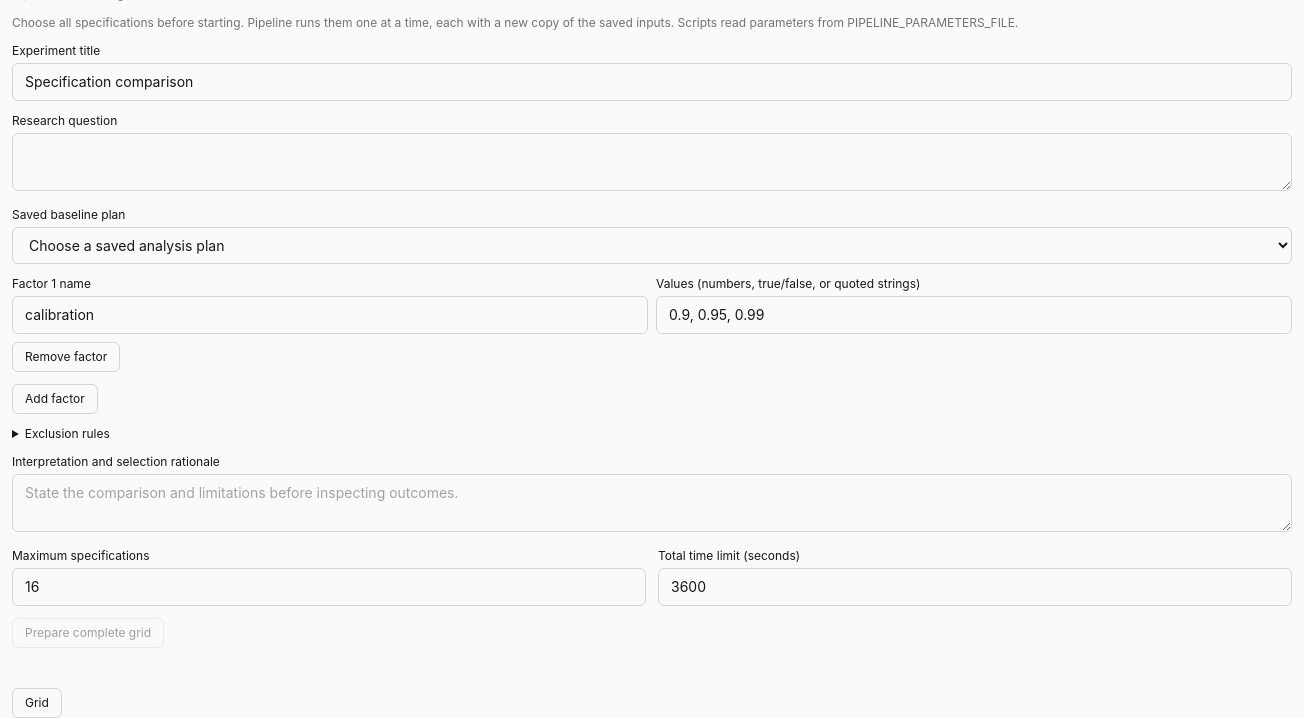
Test: offers only what a attention grid can do
(page scrolled)
Click the button "Grid" at point(37, 703), box [12,688,62,717]
(page scrolled)
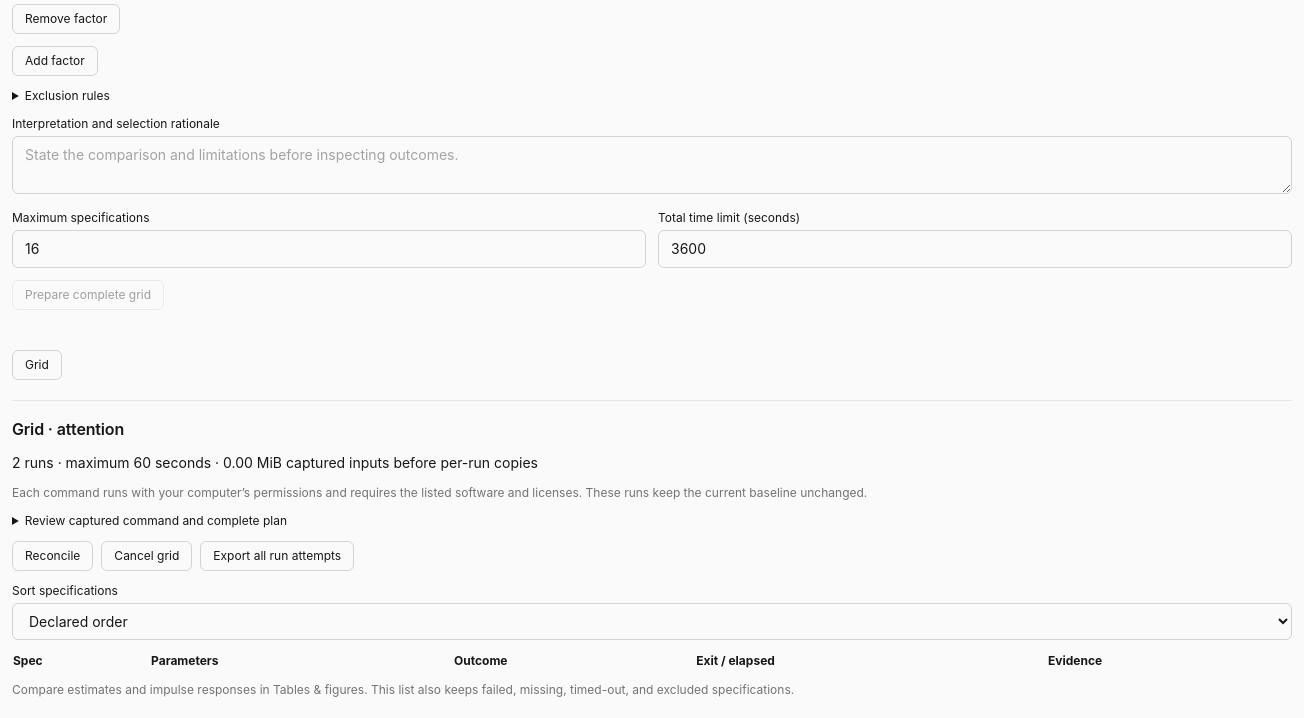
Result: the button "Reconcile" is shown at [12,541,93,571]
Result: the button "Cancel grid" is shown at [101,541,192,571]
